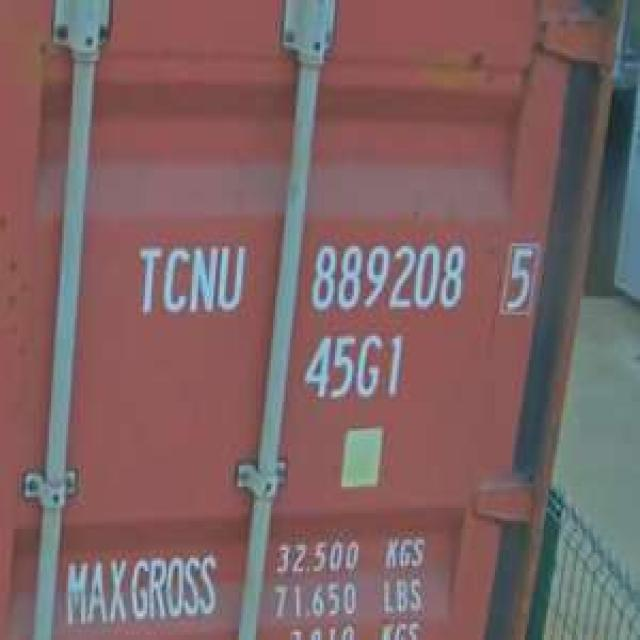dv: (493, 233, 542, 320)
owner: (130, 232, 250, 322)
serial: (301, 235, 469, 320)
size: (296, 328, 406, 407)
